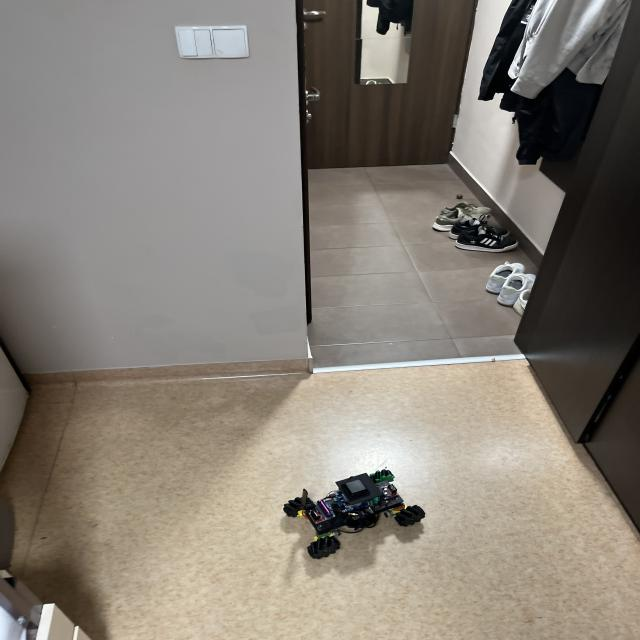robot: (283, 469, 425, 559)
